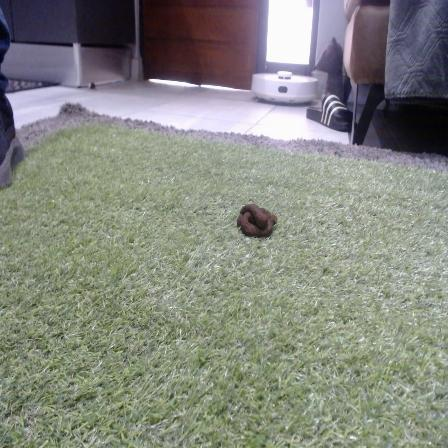dog-poop: (236, 201, 279, 243)
